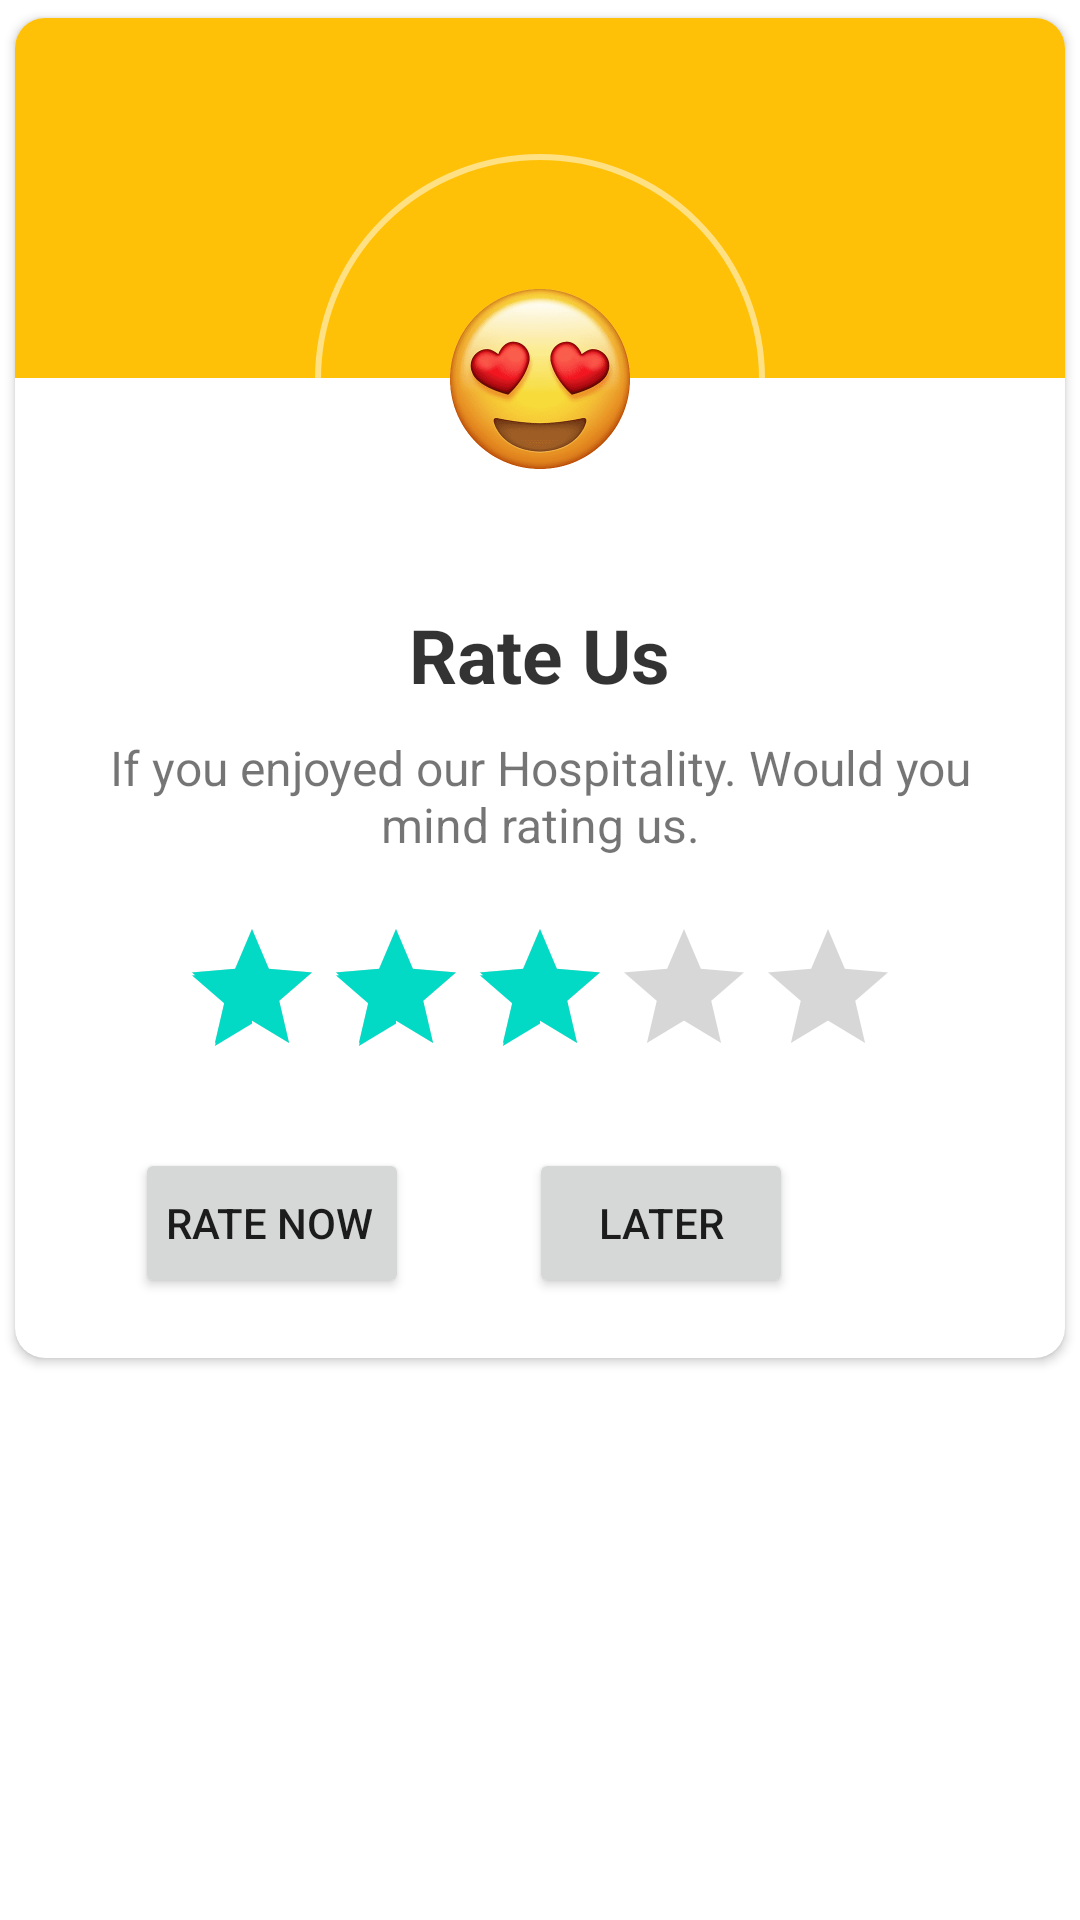

Icon click points for this 1080 x 1920 phone screenshot, format (x=x, y=y):
emojii: (x=540, y=379)
